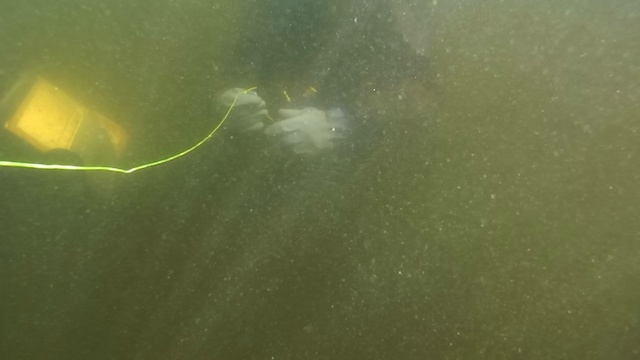Hand: (277, 96, 357, 166), (209, 78, 272, 140)
